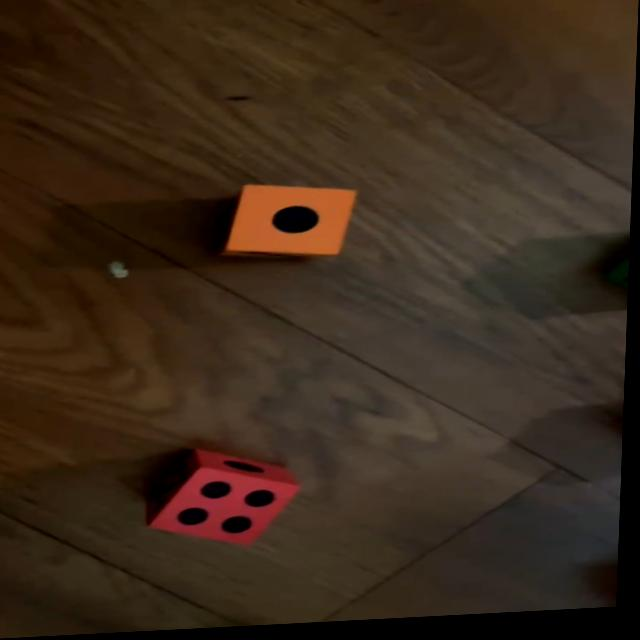red_block: (150, 447, 307, 551)
